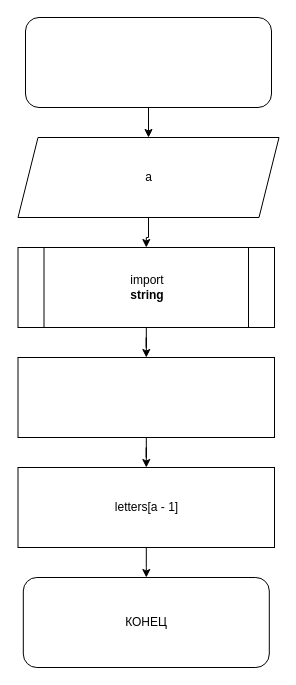
Some shapes in this 296 by 685 pixel diagram are drawn without their labels. The box of each missing label's shape, as (x1, y1, x2, y2) in pixels:
letters = string.ascii_lowercase: (17, 356, 274, 438)
НАЧАЛО: (24, 16, 272, 108)
